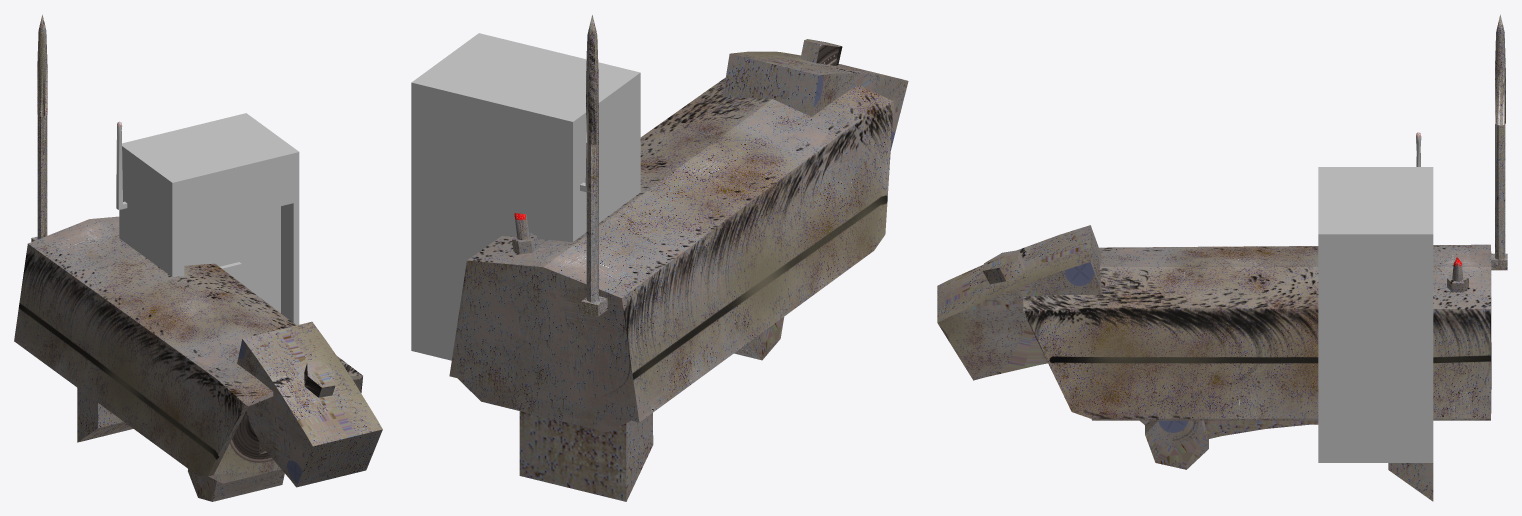
Rendered from camera.fbx.
3 renders of one model, left to right at view 1: azimuth 30°, elevation 25°; view 2: azimuth 150°, elevation 25°; view 3: azimuth 270°, elevation 25°, orthographic. The views are drawn at different scales.
Visible parts, largest first — view 1: camera, Camera_switch_Remote, holder; view 2: camera, Camera_switch_Remote, holder; view 3: camera, Camera_switch_Remote, holder.
Part boxes in pixels (<box>): camera: <box>14,14,362,483</box>; Camera_switch_Remote: <box>116,113,299,325</box>; holder: <box>77,321,382,501</box>; camera: <box>449,15,893,432</box>; Camera_switch_Remote: <box>411,33,640,360</box>; holder: <box>519,39,908,501</box>; camera: <box>1023,14,1507,420</box>; Camera_switch_Remote: <box>1318,132,1433,462</box>; holder: <box>937,225,1433,501</box>.
Bounding box in the file's own units: 2.94 × 5.55 × 6.5.
